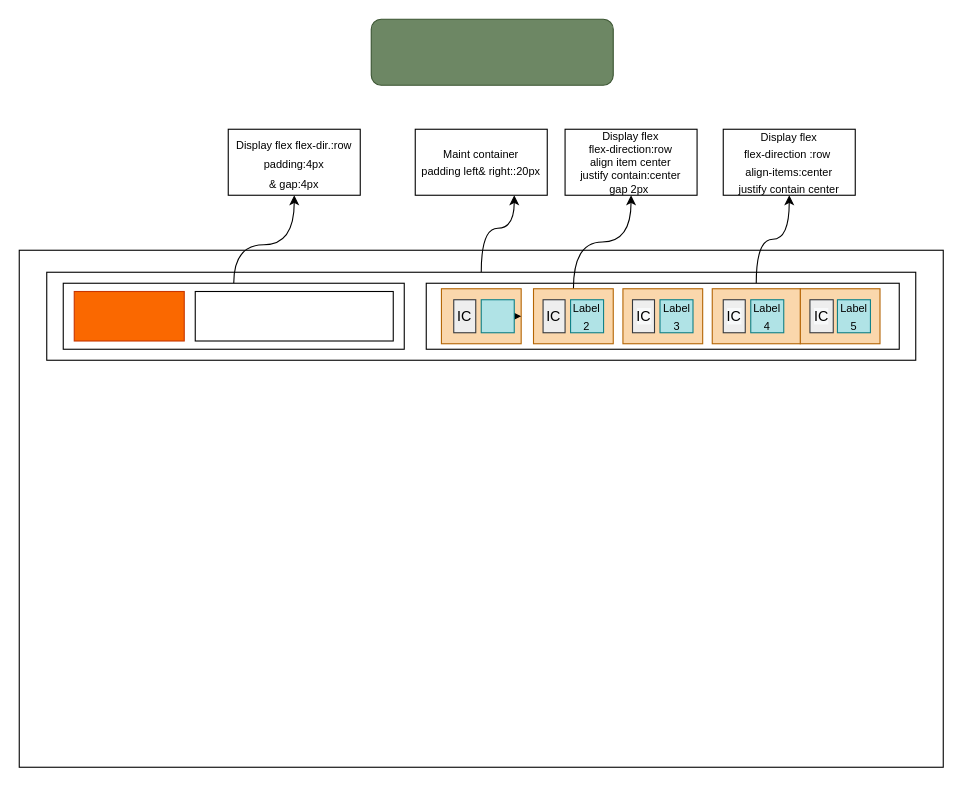
This 963x787 diagram has some shape labels left out. Each missing label, with the centre of its shape:
"Home & location & one Angle icon" goes at (293,315).
"Label 1" goes at (497,316).
"Swiggy Header" goes at (491,51).
"Swiggy Logo" goes at (128,315).
